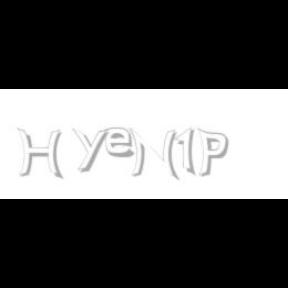1: (174, 128, 196, 176)
H: (17, 128, 63, 180)
N: (128, 128, 178, 180)
P: (197, 128, 229, 178)
e: (106, 128, 138, 158)
y: (72, 128, 112, 172)
